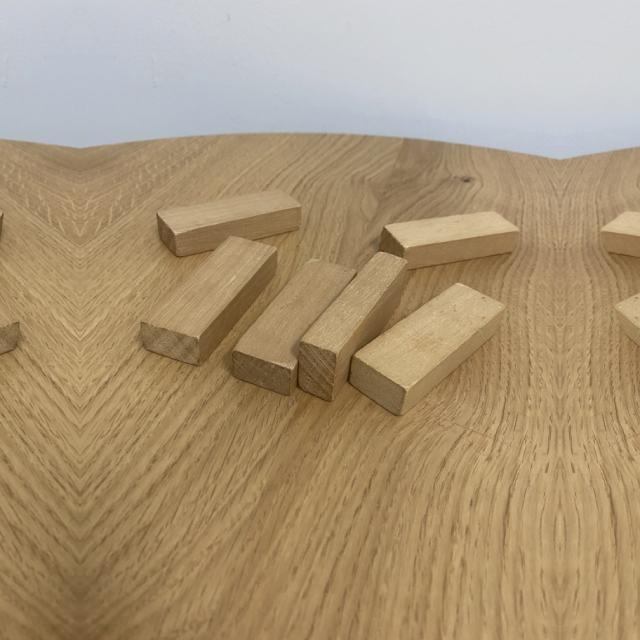jenga: (348, 282, 505, 416), (140, 235, 278, 367), (232, 258, 358, 395), (298, 251, 408, 402), (156, 188, 302, 257), (379, 211, 520, 271), (600, 211, 640, 258)
